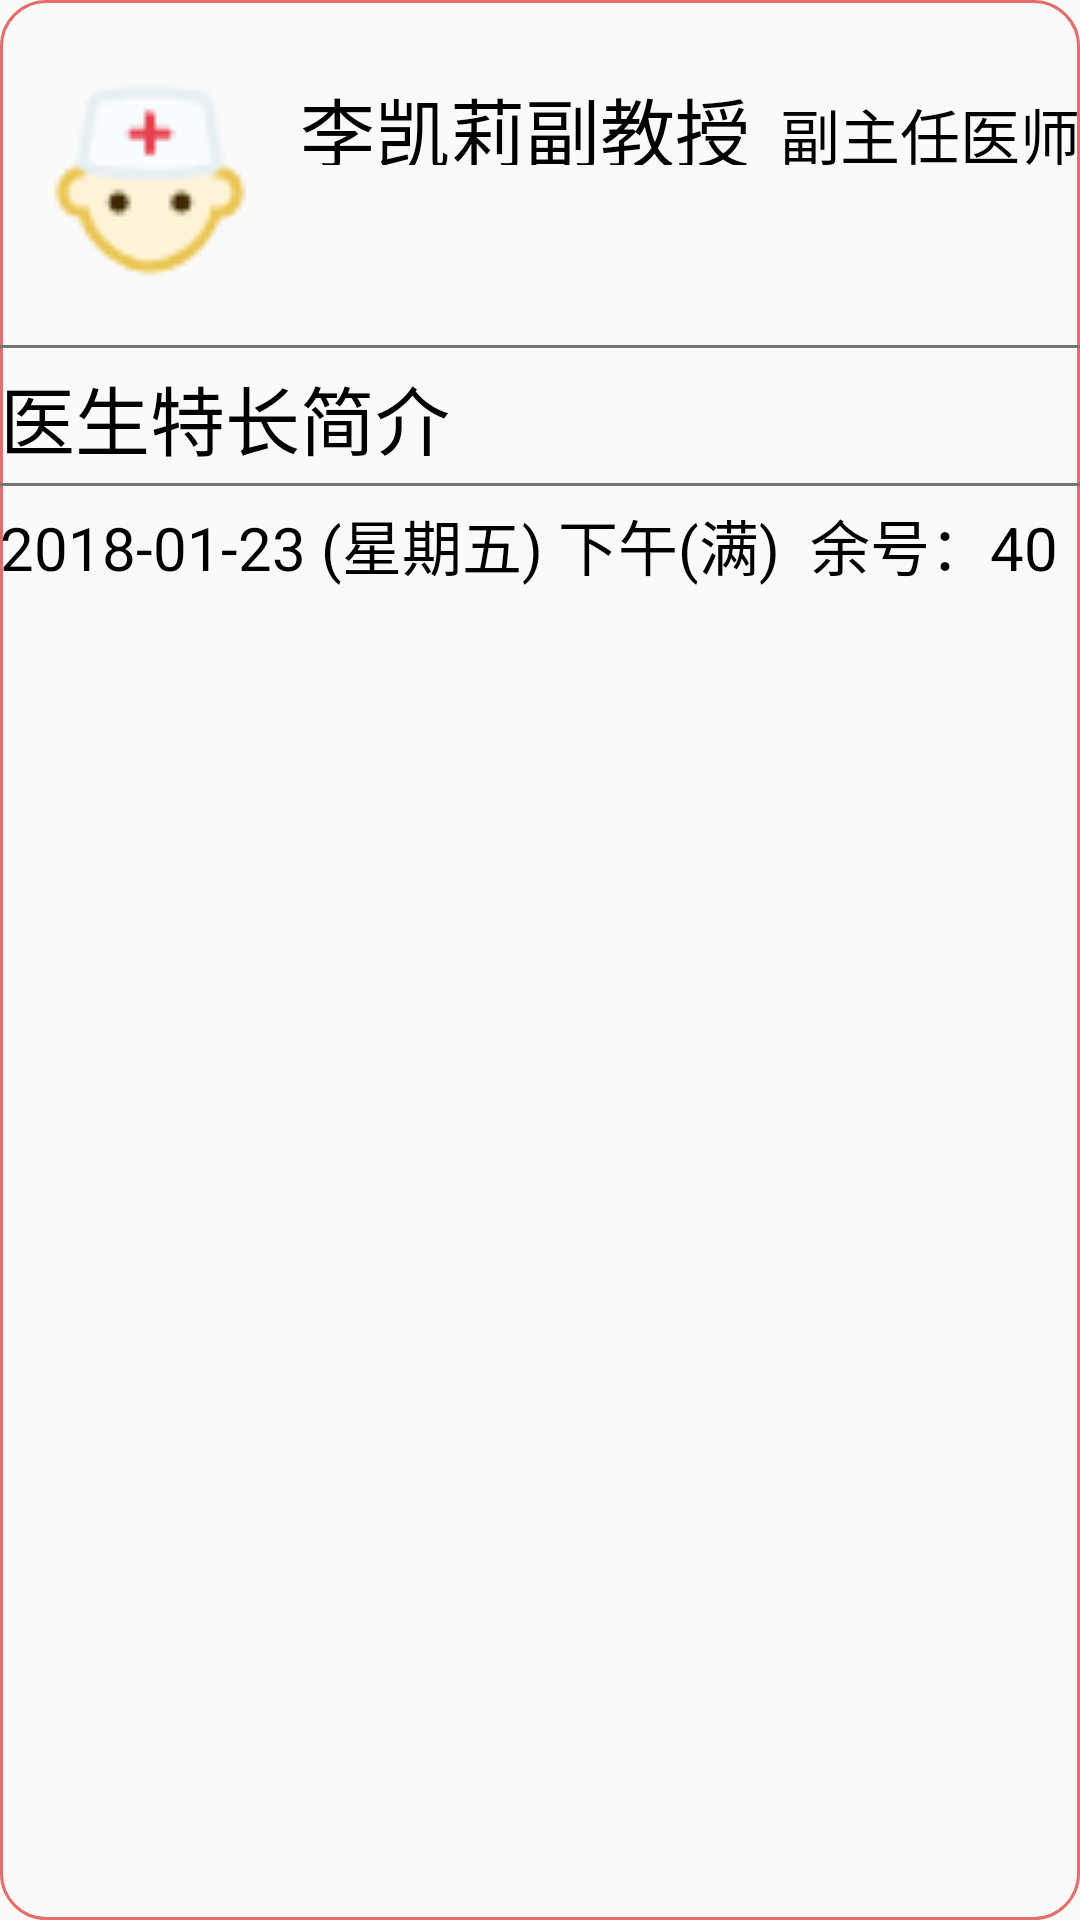

Point at icon controls on the screen. Image size 1080×1920, points as point (x, y).
doctor head: point (150, 192)
